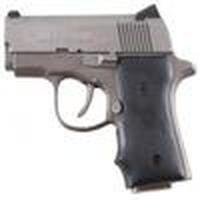gun: (3, 6, 192, 188)
